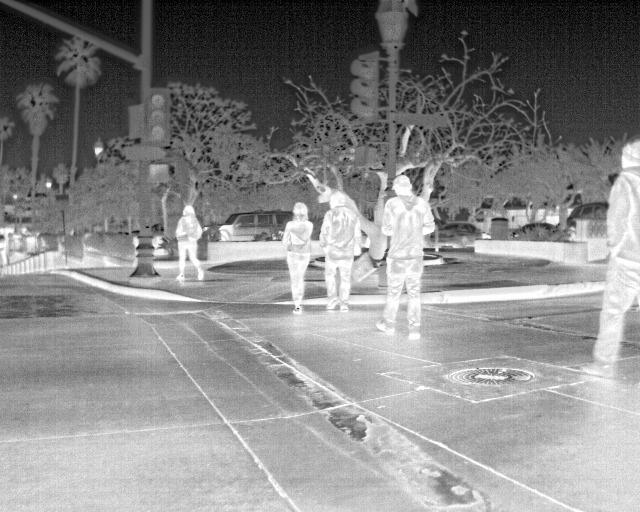bicycle: (212, 208, 295, 242), (566, 202, 608, 235), (437, 221, 479, 247)
empty: (582, 134, 637, 370), (373, 174, 439, 345), (317, 192, 365, 316), (282, 203, 315, 312), (171, 204, 206, 284)
